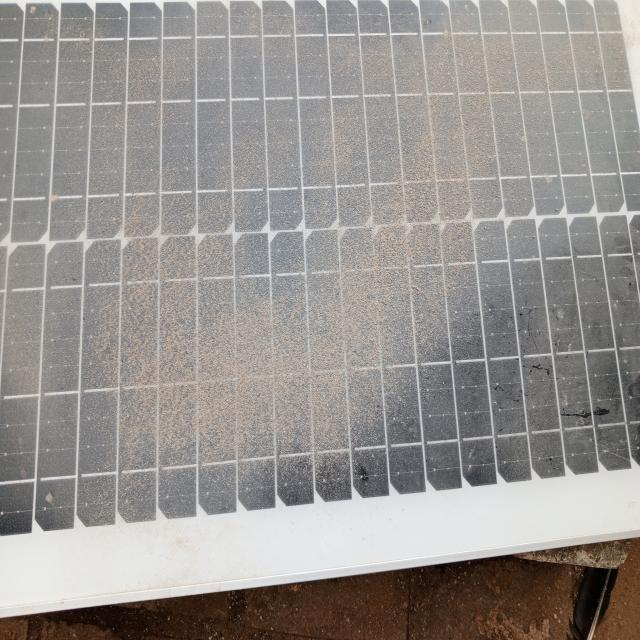Surface Contaminant: (15, 27, 639, 507)
